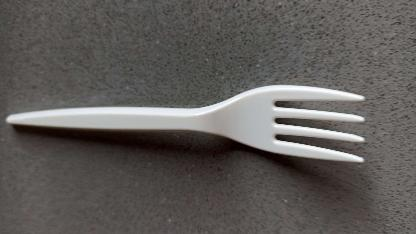Others: (1, 84, 367, 164)
